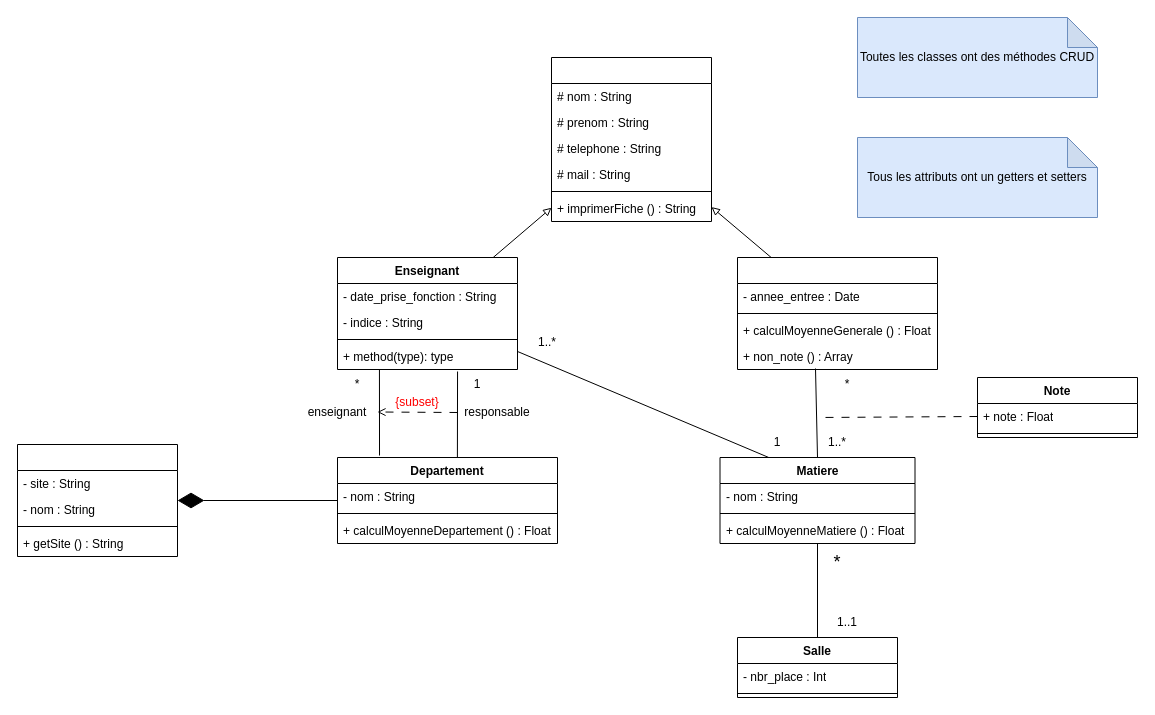
The diagram is 1155 pixels wide and 715 high, and some of its shapes have lost their labels. The box of each missing label's shape, as (x1, y1, x2, y2) in pixels:
College: (16, 444, 178, 556)
Etudiant: (736, 256, 938, 370)
Personne: (550, 56, 712, 222)
